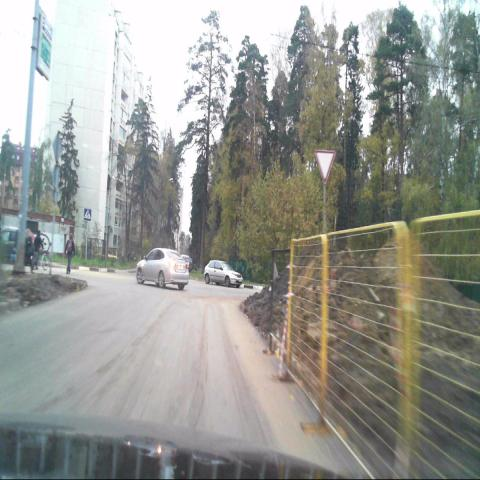2_4: (314, 149, 336, 184)
